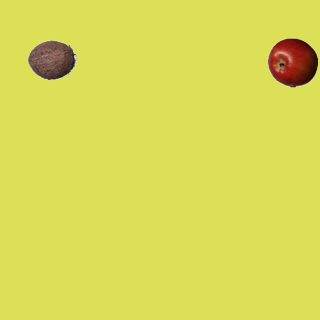Apple Braeburn: (267, 37, 317, 87)
Cocos: (26, 34, 76, 84)
